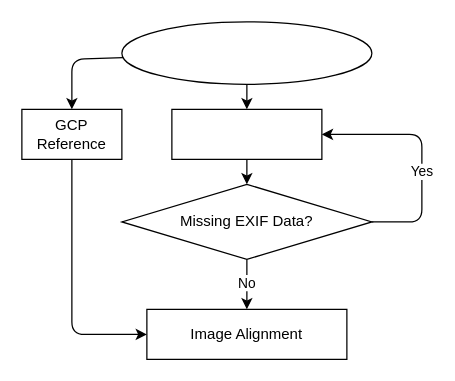
Some shapes in this 455 by 381 pixel diagram are drawn without their labels. Each missing label, with the centre of its shape:
"Import to Metashape" belongs at pixel 246 133.
"UAV Multispectral Dataset" belongs at pixel 246 52.
